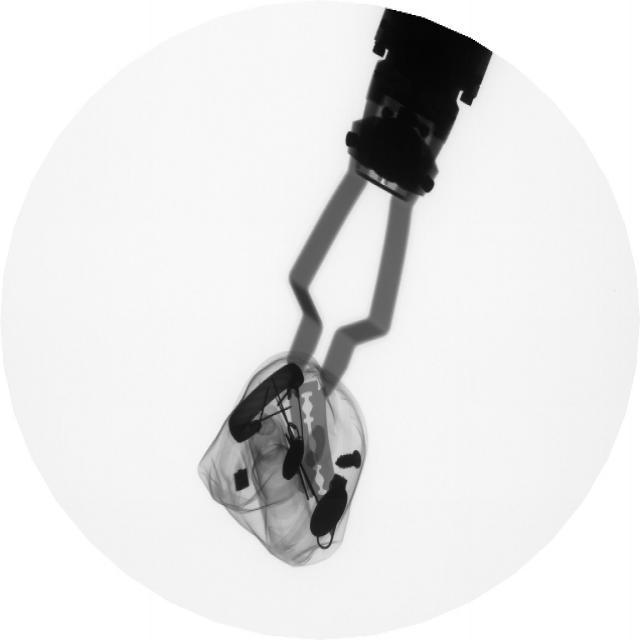BLADE: (288, 366, 339, 508)
